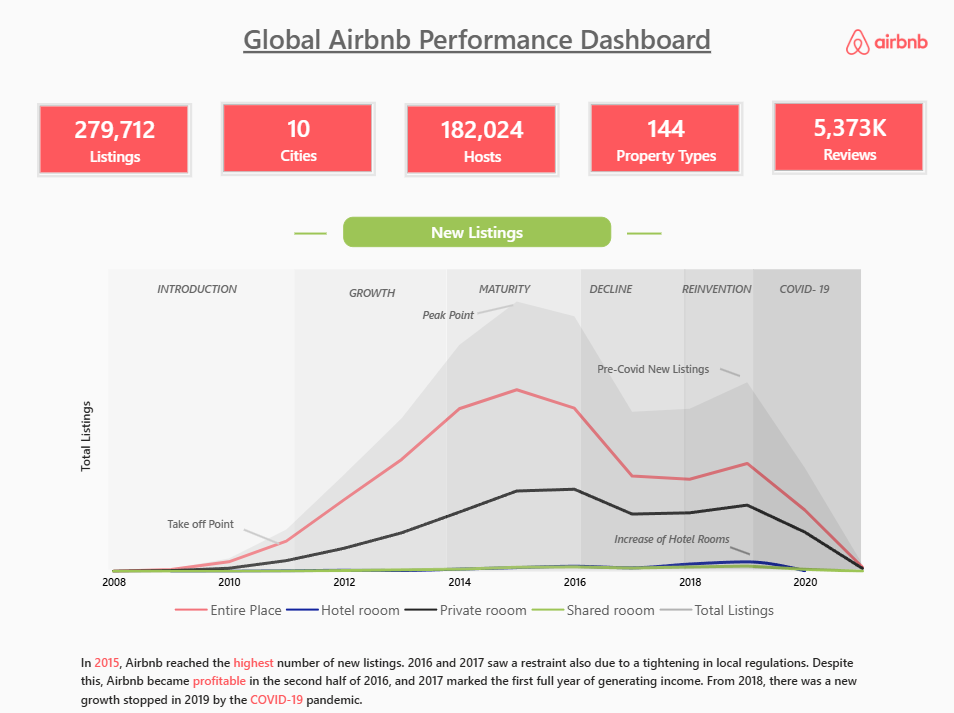

What the dashboard file says about the page in this screenshot:
{"tool":"powerbi","page":{"name":"Overview","canvas":[960,720],"ordinal":0},"visuals":[{"type":"cardVisual","fields":{"Data":["CountNonNull(Listings.listing_id)"]},"box":[40,104.4,155,74],"z":0},{"type":"textbox","box":[167.8,22.2,625.3,44.7],"z":1000},{"type":"image","box":[836.7,31.1,107.2,25.7],"z":2000},{"type":"cardVisual","fields":{"Data":["Count(Listings.city)"]},"box":[223.9,103.3,155,74],"z":3000},{"type":"cardVisual","fields":{"Data":["Count(Listings.host_id)"]},"box":[407.8,104.4,155,74],"z":4000},{"type":"cardVisual","fields":{"Data":["Count(Listings.property_type)"]},"box":[591.7,103.9,155,74],"z":5000},{"type":"cardVisual","fields":{"Data":["Count(Reviews.review_id)"]},"box":[775.6,102.2,155,74],"z":6000},{"type":"lineChart","fields":{"Category":["Listings.host_since.Variation.Date Hierarchy.Year"],"Y":["Listings.Entire Place","Listings.Hotel rooom","Listings.Private rooom","Listings.Shared rooom","CountNonNull(Listings.listing_id)"]},"box":[67,280,826,362],"z":7000},{"type":"textbox","box":[346.1,218.9,267.8,30],"z":8000},{"type":"shape","box":[297.8,214.4,32.2,41.1],"z":9000},{"type":"shape","box":[630,215.6,34.4,41.1],"z":10000},{"type":"shape","box":[111.1,271.1,186.7,300],"z":11000},{"type":"textbox","box":[133.3,280,132.2,23.3],"z":12000},{"type":"shape","box":[297.8,271.1,152.2,300],"z":13000},{"type":"shape","box":[450,271.1,133.3,300],"z":14000},{"type":"shape","box":[583.3,271.1,104.4,300],"z":15000},{"type":"shape","box":[687.8,271.1,68.9,300],"z":16000},{"type":"shape","box":[756.7,271.1,107.8,300],"z":17000},{"type":"textbox","box":[441.1,280,132.2,23.3],"z":18000},{"type":"textbox","box":[547.8,280,132.2,23.3],"z":19000},{"type":"textbox","box":[308.9,283.3,132.2,23.3],"z":20000},{"type":"textbox","box":[655.6,280,132.2,23.3],"z":21000},{"type":"textbox","box":[741.1,280,132.2,23.3],"z":22000},{"type":"textbox","box":[608.9,530,132.2,23.3],"z":23000},{"type":"textbox","box":[590,360,132.2,23.3],"z":24000},{"type":"textbox","box":[137.8,515.6,132.2,23.3],"z":25000},{"type":"textbox","box":[384.4,306.7,132.2,23.3],"z":26000},{"type":"shape","box":[480,296.7,36.7,30],"z":27000},{"type":"shape","box":[722.2,360,21.1,28.9],"z":28000},{"type":"shape","box":[246.7,523.3,36.7,30],"z":29000},{"type":"shape","box":[732.2,545.6,21.1,15.6],"z":30000},{"type":"textbox","box":[83.9,653.3,792.2,66.7],"z":31000}]}

Visuals, with their boxes in screenshot pixels (x1, y1, x2, y2), scaled from the page's 960x720 canvas onto the 954x713 screenshot:
cardVisual - CountNonNull(Listings.listing_id): [left=40, top=103, right=194, bottom=177]
textbox: [left=167, top=22, right=788, bottom=66]
image: [left=831, top=31, right=938, bottom=56]
cardVisual - Count(Listings.city): [left=223, top=102, right=377, bottom=176]
cardVisual - Count(Listings.host_id): [left=405, top=103, right=559, bottom=177]
cardVisual - Count(Listings.property_type): [left=588, top=103, right=742, bottom=176]
cardVisual - Count(Reviews.review_id): [left=771, top=101, right=925, bottom=174]
lineChart - Listings.host_since.Variation.Date Hierarchy.Year x Listings.Entire Place: [left=67, top=277, right=887, bottom=636]
textbox: [left=344, top=217, right=610, bottom=246]
shape: [left=296, top=212, right=328, bottom=253]
shape: [left=626, top=214, right=660, bottom=254]
shape: [left=110, top=268, right=296, bottom=566]
textbox: [left=132, top=277, right=264, bottom=300]
shape: [left=296, top=268, right=447, bottom=566]
shape: [left=447, top=268, right=580, bottom=566]
shape: [left=580, top=268, right=683, bottom=566]
shape: [left=684, top=268, right=752, bottom=566]
shape: [left=752, top=268, right=859, bottom=566]
textbox: [left=438, top=277, right=570, bottom=300]
textbox: [left=544, top=277, right=676, bottom=300]
textbox: [left=307, top=281, right=438, bottom=304]
textbox: [left=652, top=277, right=783, bottom=300]
textbox: [left=736, top=277, right=868, bottom=300]
textbox: [left=605, top=525, right=736, bottom=548]
textbox: [left=586, top=356, right=718, bottom=380]
textbox: [left=137, top=511, right=268, bottom=534]
textbox: [left=382, top=304, right=513, bottom=327]
shape: [left=477, top=294, right=513, bottom=324]
shape: [left=718, top=356, right=739, bottom=385]
shape: [left=245, top=518, right=282, bottom=548]
shape: [left=728, top=540, right=749, bottom=556]
textbox: [left=83, top=647, right=871, bottom=712]
